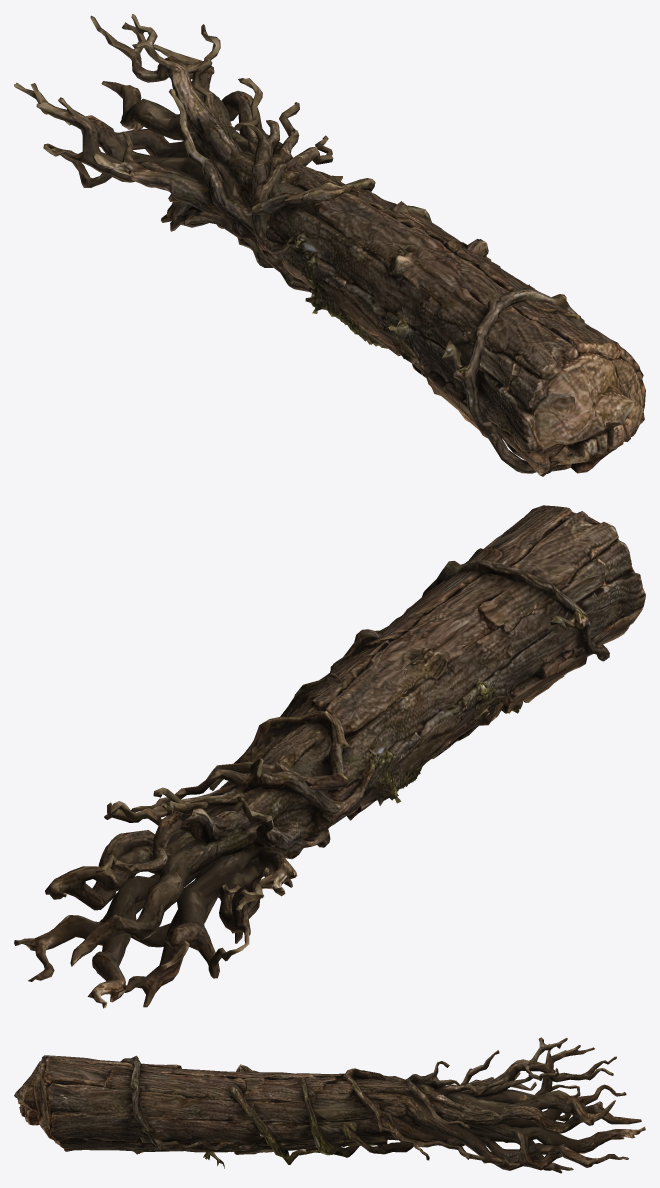
The model's file is log.fbx.
3 renders of one model, top to bottom at view 1: azimuth 30°, elevation 25°; view 2: azimuth 150°, elevation 25°; view 3: azimuth 270°, elevation 25°, orthographic. The views are drawn at different scales.
Parts seen in each view (by area): view 1: Part; view 2: Part; view 3: Part.
Boxes of the visible parts, bbox=[...] form: Part: bbox=[14, 14, 645, 476]; Part: bbox=[14, 505, 645, 1008]; Part: bbox=[14, 1037, 645, 1173].
Size of the model in its own units: 1.51 by 1.34 by 6.
